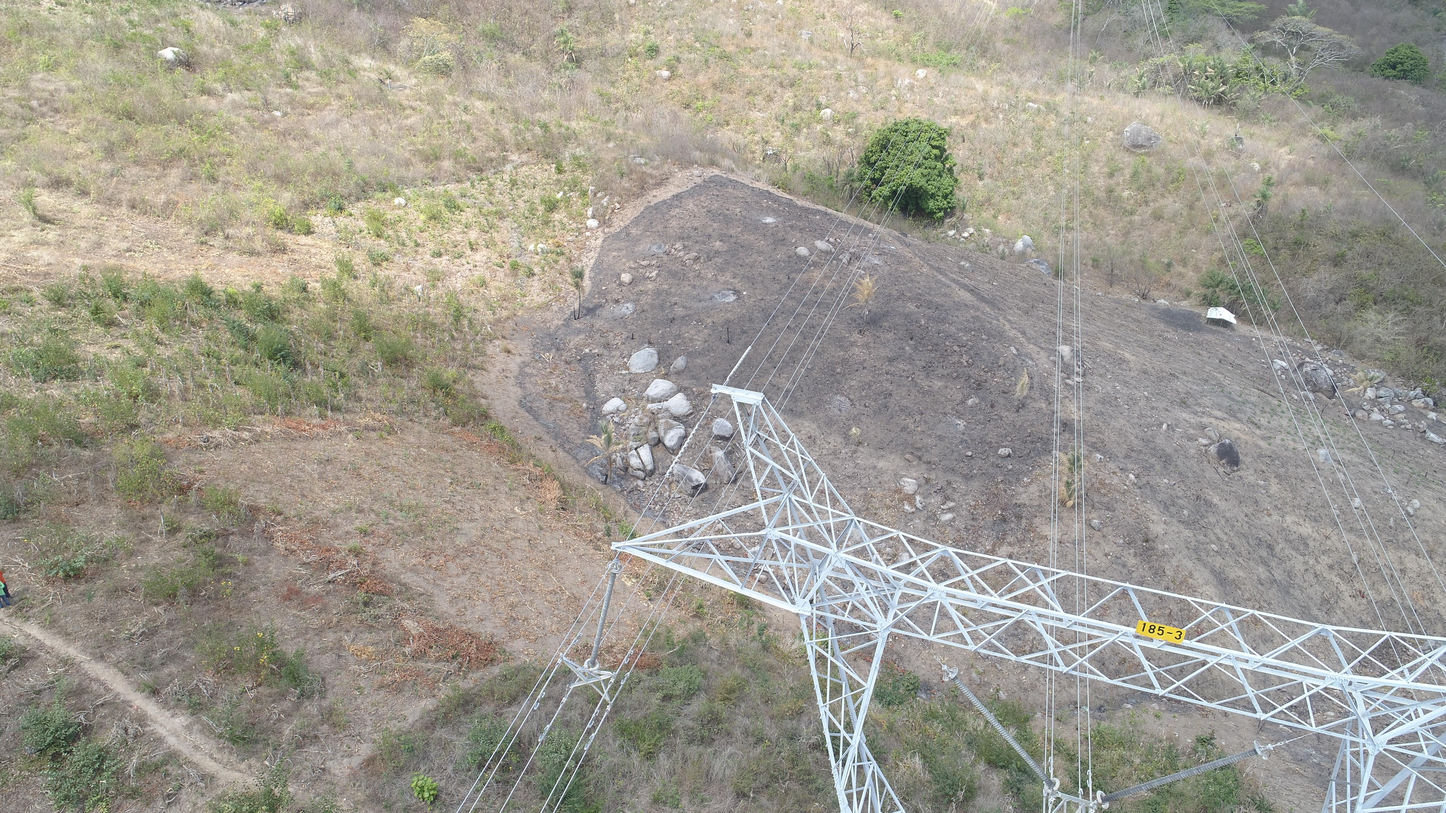power_tower: (582, 385, 1446, 812)
